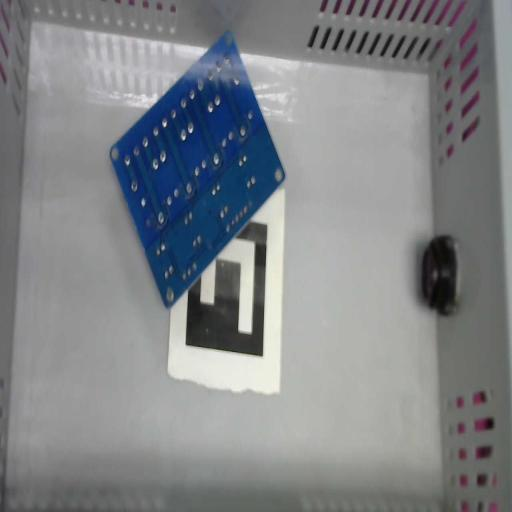QR: (167, 188, 285, 396)
relay_module: (108, 28, 287, 316)
